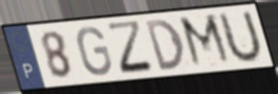8: (40, 29, 75, 81)
D: (143, 17, 187, 73)
G: (75, 25, 115, 78)
M: (176, 11, 236, 70)
U: (217, 9, 264, 67)
Z: (104, 19, 158, 77)
